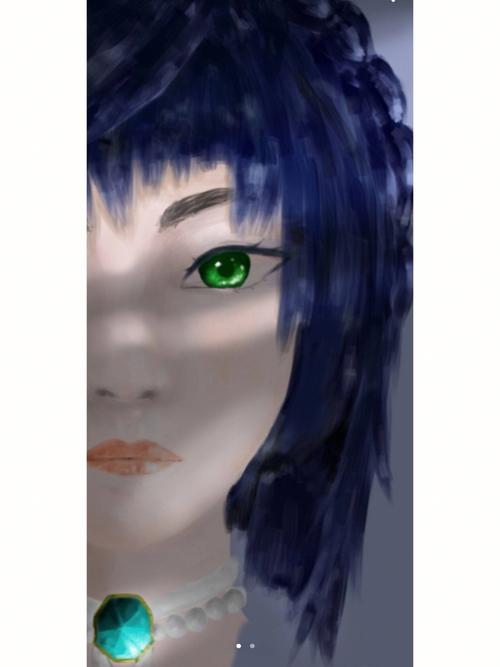夜兰: (86, 1, 409, 663)
